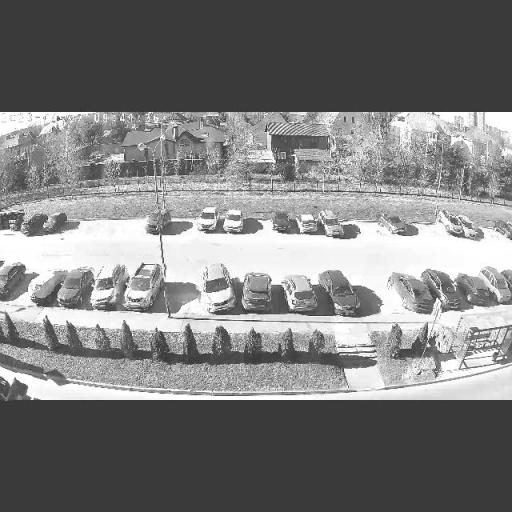busy: (194, 260, 243, 314), (119, 262, 166, 311), (387, 274, 442, 314), (323, 272, 368, 314), (82, 266, 126, 308), (423, 270, 468, 311), (238, 272, 280, 312), (54, 268, 93, 310), (281, 275, 324, 312), (22, 270, 64, 306), (434, 212, 484, 240), (455, 274, 494, 307), (481, 266, 512, 306), (0, 260, 26, 301), (0, 371, 34, 400), (379, 213, 413, 237), (320, 212, 349, 238), (144, 208, 171, 234), (219, 209, 247, 234), (196, 207, 224, 231), (269, 211, 296, 234), (38, 214, 68, 232), (20, 214, 46, 234), (296, 216, 322, 234), (495, 220, 512, 240)
free: (164, 276, 198, 316), (362, 290, 396, 315), (12, 270, 34, 308), (246, 214, 268, 236), (339, 215, 359, 238), (478, 222, 496, 240), (104, 223, 126, 236), (126, 223, 149, 235), (170, 221, 193, 232), (405, 219, 419, 237), (360, 224, 380, 234), (86, 224, 104, 234), (60, 224, 78, 234), (424, 226, 440, 236)
